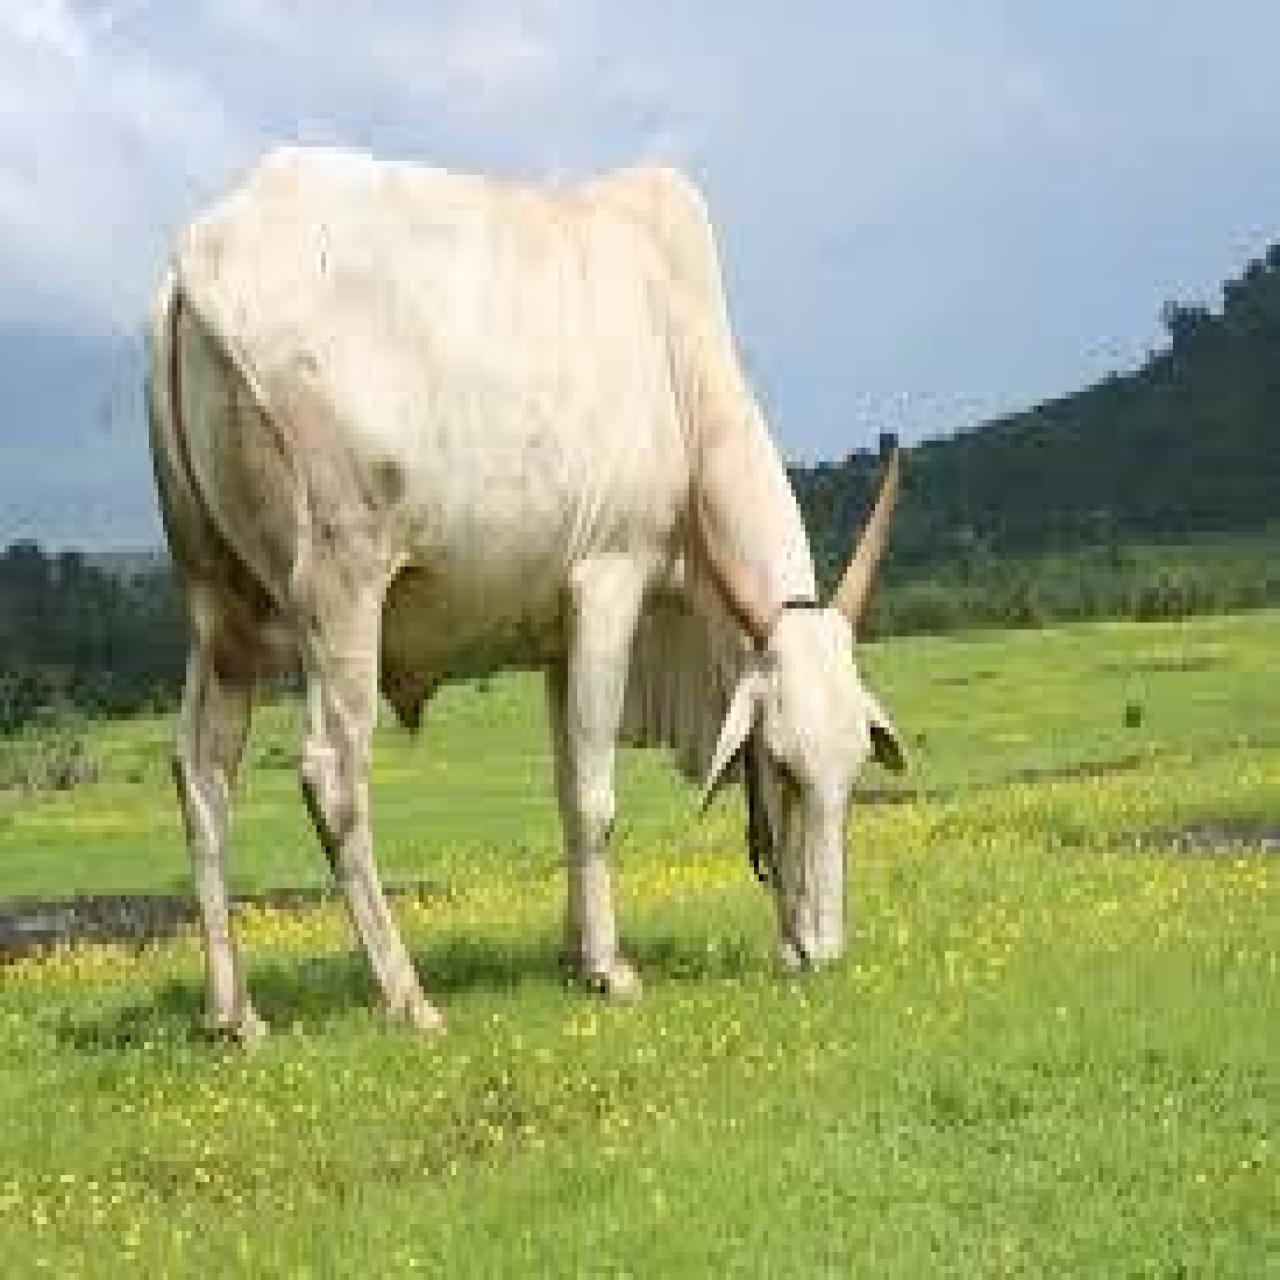cow: (149, 139, 912, 1056)
